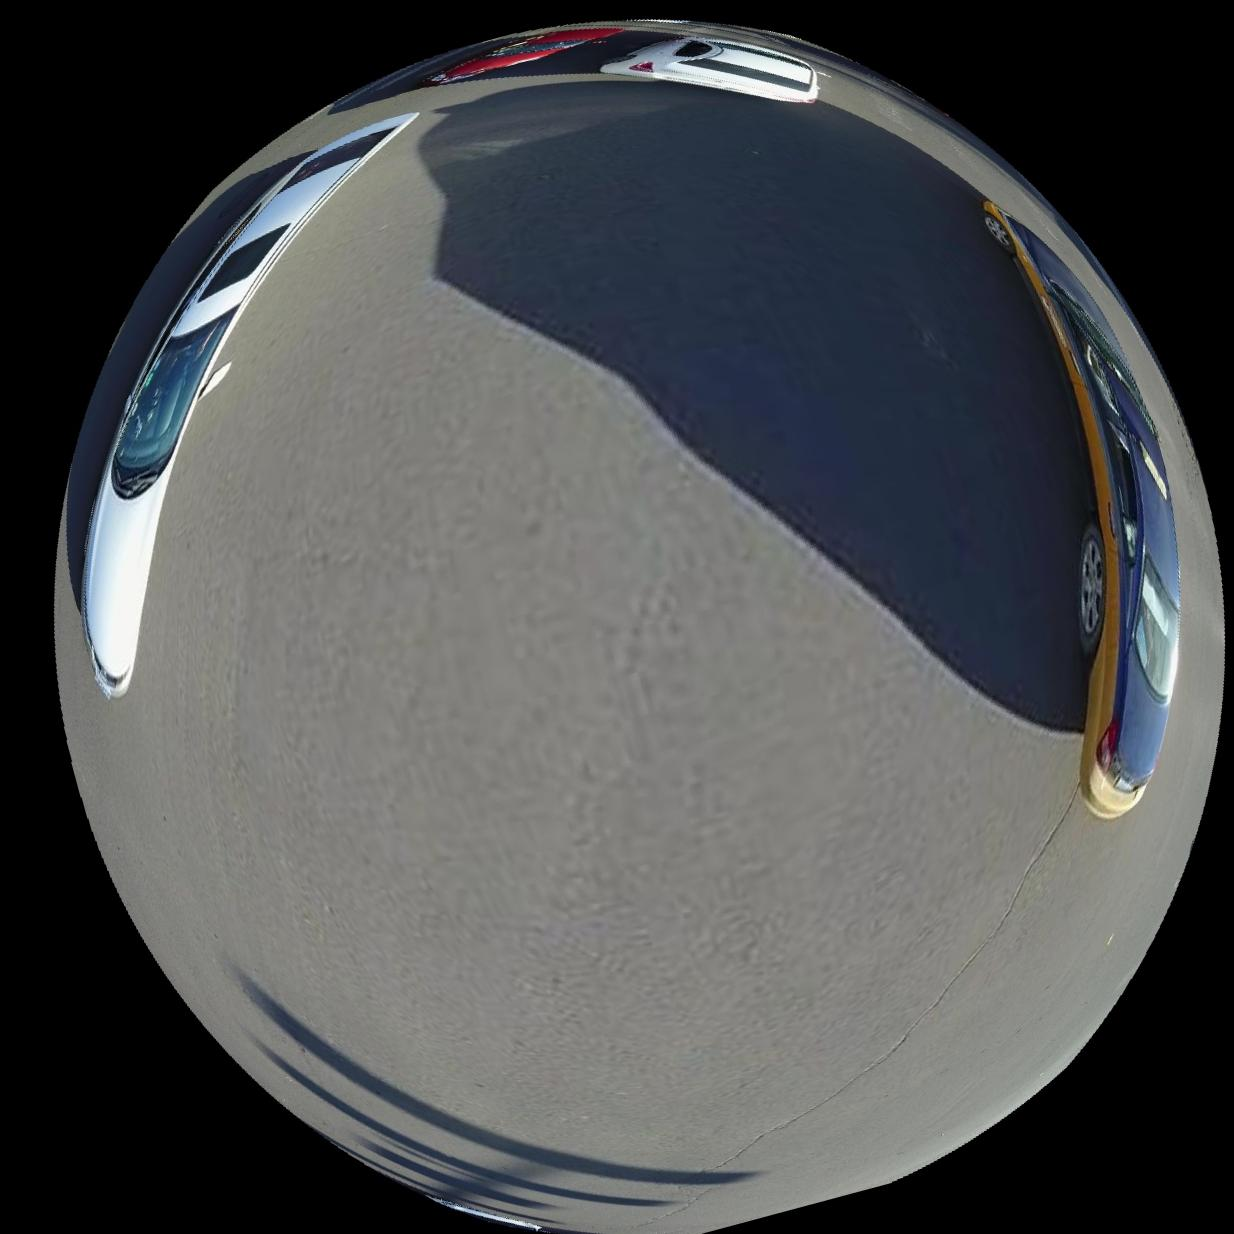cars: (77, 113, 413, 697), (983, 199, 1183, 821), (600, 32, 819, 102)
